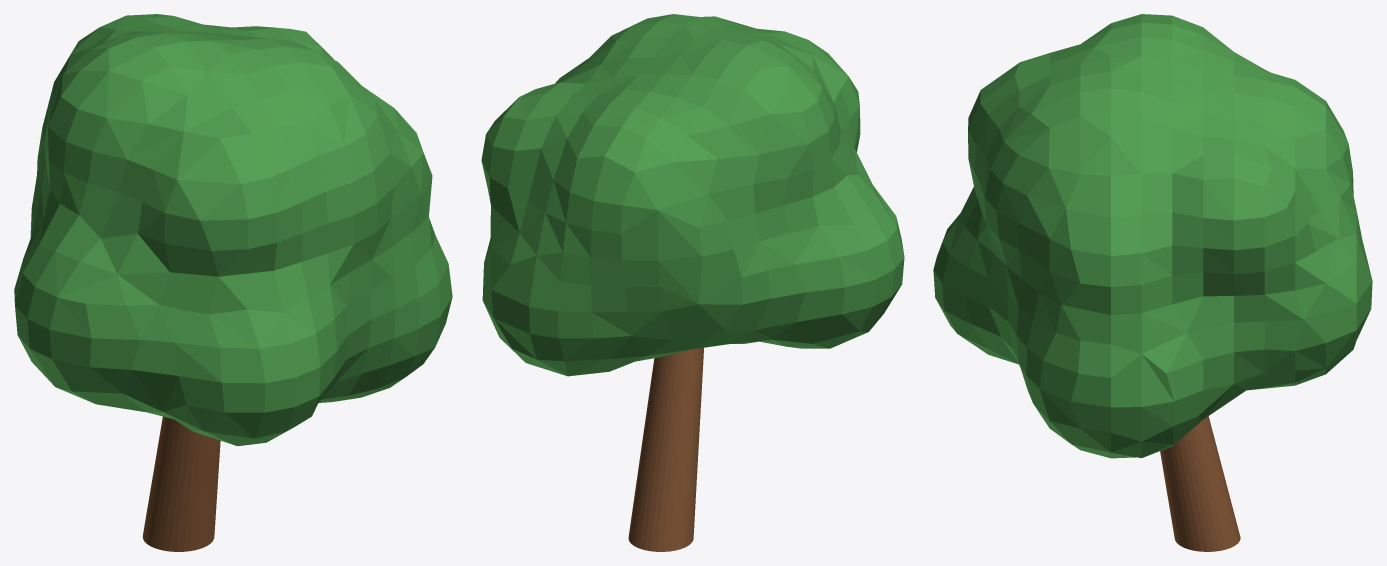
File: ufo_tree3.fbx
3 views of the same model, side by side, from view 1: azimuth 30°, elevation 25°; view 2: azimuth 150°, elevation 25°; view 3: azimuth 270°, elevation 25° (orthographic). The views are drawn at different scales.
Parts seen in each view (by area): view 1: Mball.012, Cylinder.002; view 2: Mball.012, Cylinder.002; view 3: Mball.012, Cylinder.002.
Part boxes in pixels (x1=…): Mball.012: x1=14, y1=14, x2=452, y2=446; Cylinder.002: x1=142, y1=416, x2=220, y2=551; Mball.012: x1=481, y1=14, x2=904, y2=376; Cylinder.002: x1=628, y1=347, x2=703, y2=551; Mball.012: x1=933, y1=14, x2=1372, y2=458; Cylinder.002: x1=1160, y1=416, x2=1240, y2=551.
Bounding box in the file's own units: 316 × 384 × 313.
